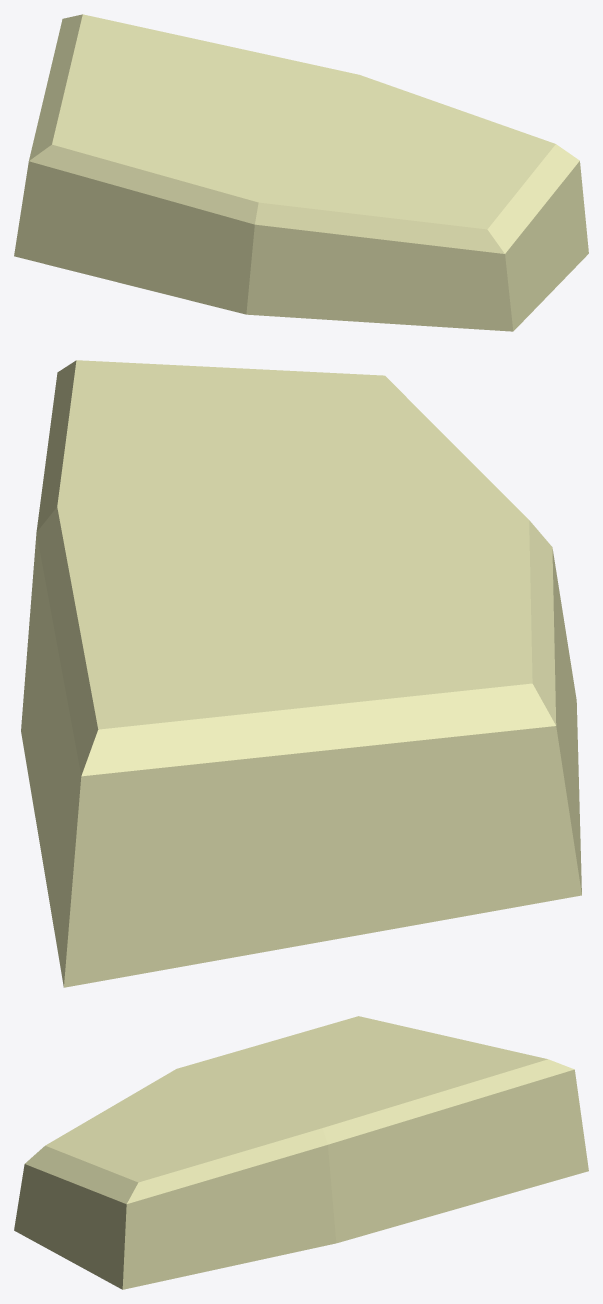
The model's file is Rock_Mesa_Medium_6.fbx.
3 views of the same model, one above another, from view 1: azimuth 30°, elevation 25°; view 2: azimuth 150°, elevation 25°; view 3: azimuth 270°, elevation 25° (orthographic). The views are drawn at different scales.
Parts seen in each view (by area): view 1: Rock; view 2: Rock; view 3: Rock.
Boxes of the visible parts, x1,y1,x2,y2 form: Rock: (14, 14, 588, 331); Rock: (21, 360, 581, 987); Rock: (14, 1016, 588, 1289).
Size of the model in its own units: 61.97 by 17.49 by 79.37.
